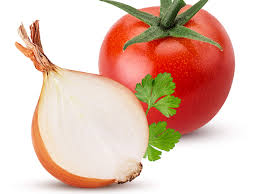onion: (31, 69, 150, 189)
tomato: (97, 4, 236, 136)
